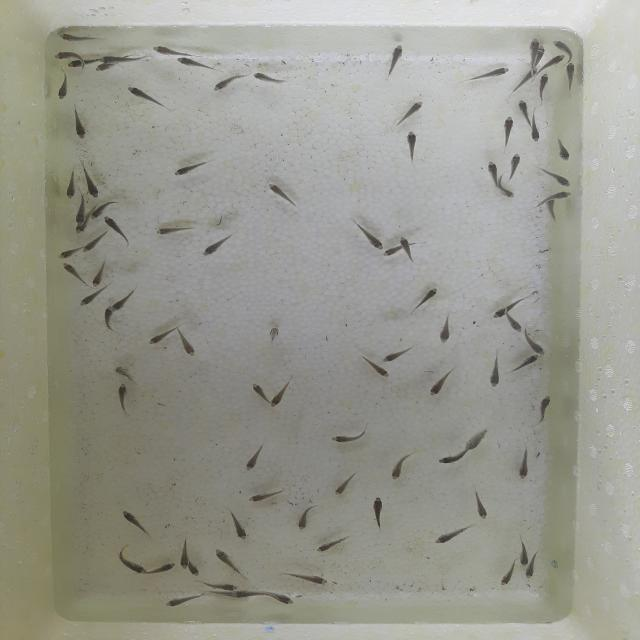fingerling: (123, 84, 170, 111), (212, 546, 248, 578), (425, 363, 457, 399), (350, 218, 385, 250), (119, 508, 156, 538), (266, 180, 302, 210), (112, 544, 148, 574), (458, 66, 512, 86), (387, 448, 418, 482), (467, 483, 493, 522), (409, 283, 438, 317), (431, 524, 475, 546), (200, 232, 236, 258), (383, 43, 407, 81), (395, 98, 426, 127), (282, 568, 330, 586), (530, 393, 556, 426), (175, 56, 222, 74), (171, 158, 211, 179), (329, 424, 371, 444), (270, 376, 296, 408), (435, 312, 459, 346), (243, 442, 269, 473), (380, 341, 415, 364), (154, 221, 201, 238), (247, 486, 288, 505), (70, 105, 91, 142), (367, 494, 386, 534), (486, 350, 506, 388), (53, 31, 107, 45), (332, 469, 360, 496), (227, 508, 249, 542), (162, 593, 206, 610), (249, 69, 290, 87), (402, 129, 421, 167), (315, 534, 351, 554), (84, 167, 106, 199), (59, 261, 88, 285), (499, 112, 518, 148), (538, 168, 572, 188), (523, 328, 547, 356), (509, 353, 539, 375), (464, 427, 491, 450), (515, 447, 533, 480), (210, 76, 244, 93), (497, 559, 517, 587), (114, 381, 130, 415), (536, 73, 553, 105), (507, 151, 524, 182), (176, 331, 196, 357), (296, 505, 316, 531), (56, 70, 72, 102), (362, 362, 392, 379), (62, 169, 78, 200), (110, 366, 138, 383), (554, 137, 572, 163), (147, 329, 173, 346), (248, 380, 268, 402), (98, 56, 152, 64), (150, 560, 177, 576), (435, 452, 465, 466), (484, 159, 500, 185), (515, 98, 531, 124), (178, 536, 190, 570), (564, 61, 576, 95), (82, 234, 102, 254), (516, 539, 530, 566), (204, 580, 238, 591), (264, 324, 282, 344), (272, 592, 296, 607), (546, 54, 567, 71), (150, 44, 177, 56), (110, 296, 128, 314), (506, 315, 524, 333), (78, 292, 98, 308), (230, 590, 270, 598), (50, 48, 74, 60), (102, 214, 120, 230), (520, 564, 538, 580), (499, 185, 517, 201), (56, 247, 78, 260), (528, 124, 542, 144), (551, 38, 569, 53), (102, 304, 112, 330), (74, 209, 87, 227), (552, 190, 575, 200), (90, 272, 104, 288), (382, 246, 400, 258), (527, 35, 539, 53), (490, 308, 507, 319), (66, 59, 80, 71), (92, 64, 108, 74), (90, 208, 103, 220), (188, 566, 200, 578), (398, 234, 409, 246), (72, 227, 87, 234)
